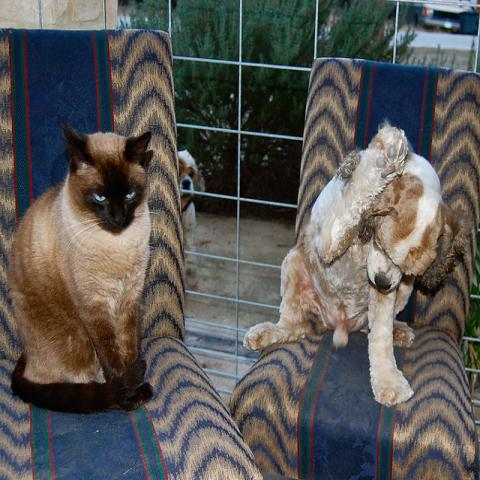car: (419, 3, 479, 36)
